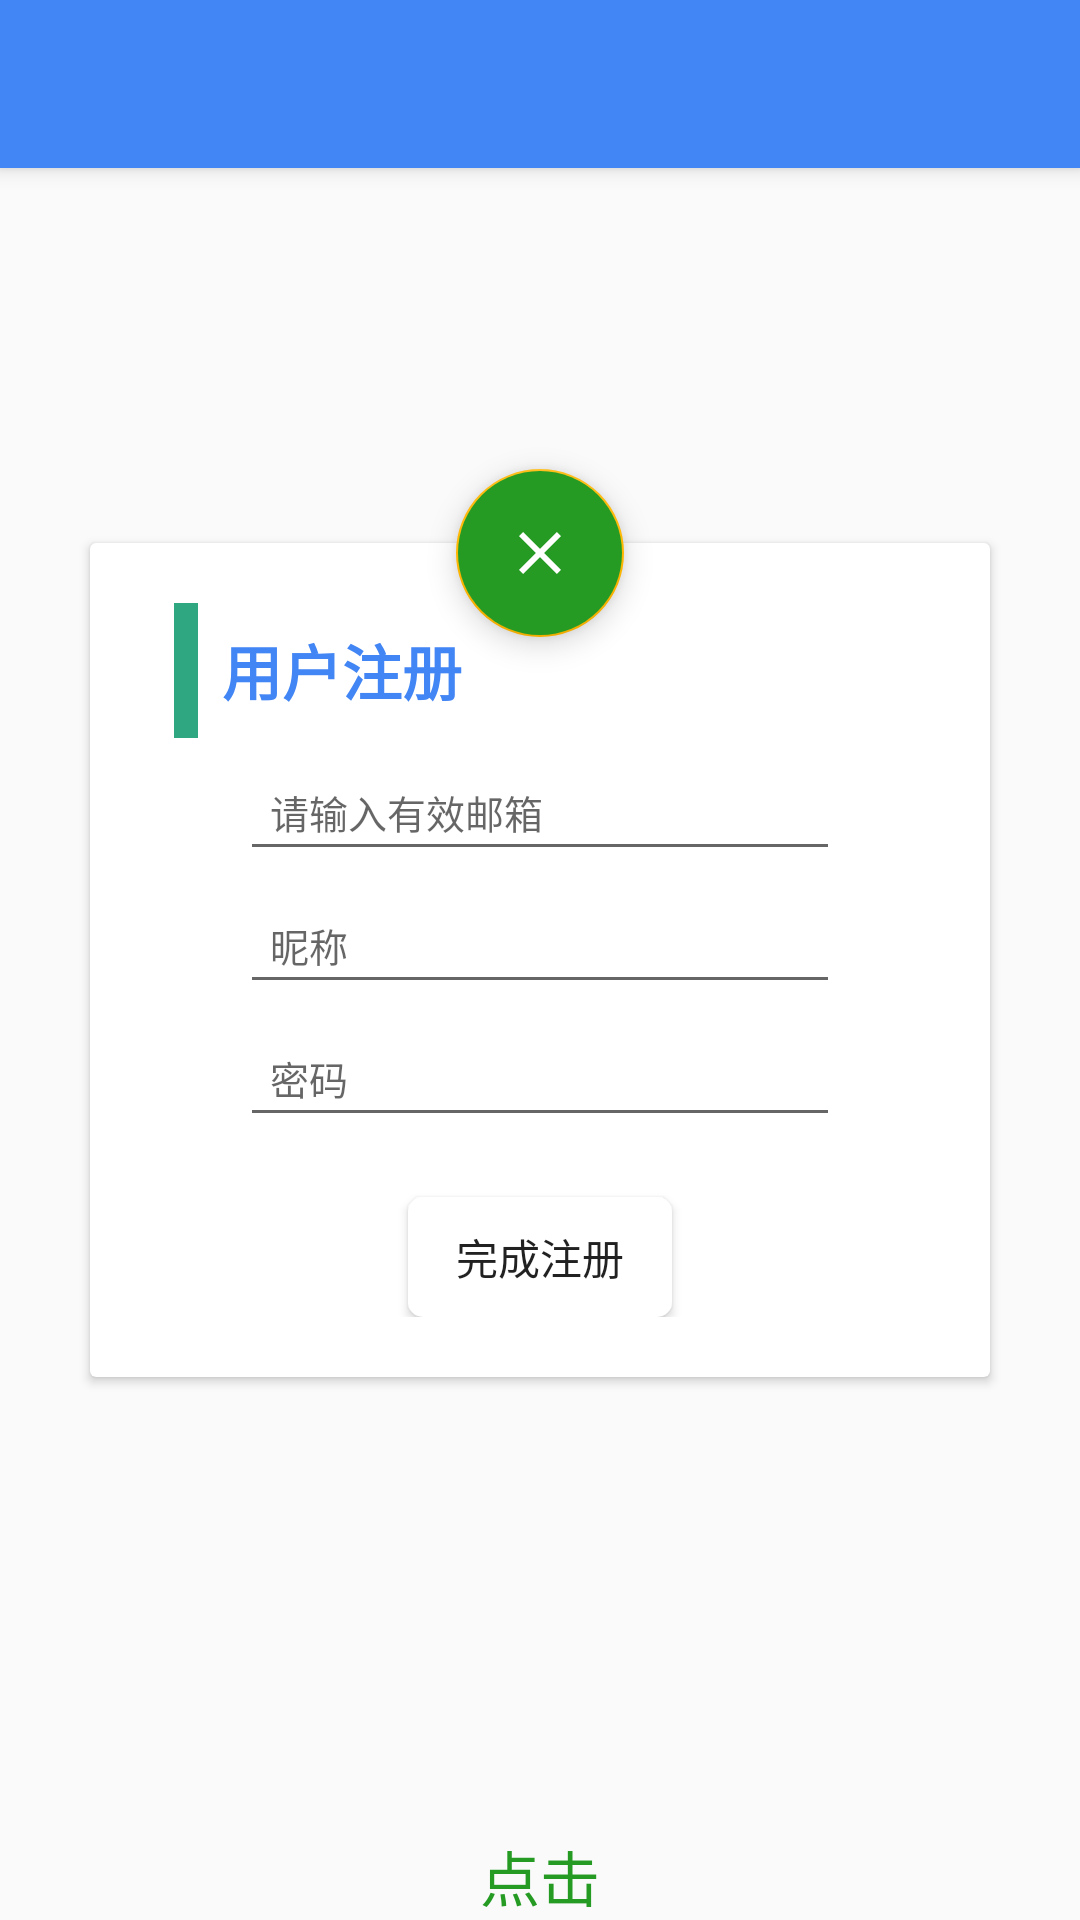

Icon bounding boxes for this 1080x1920 phone screenshot, format (x1, y1, x2, y2):
clear: (456, 469, 624, 637)
